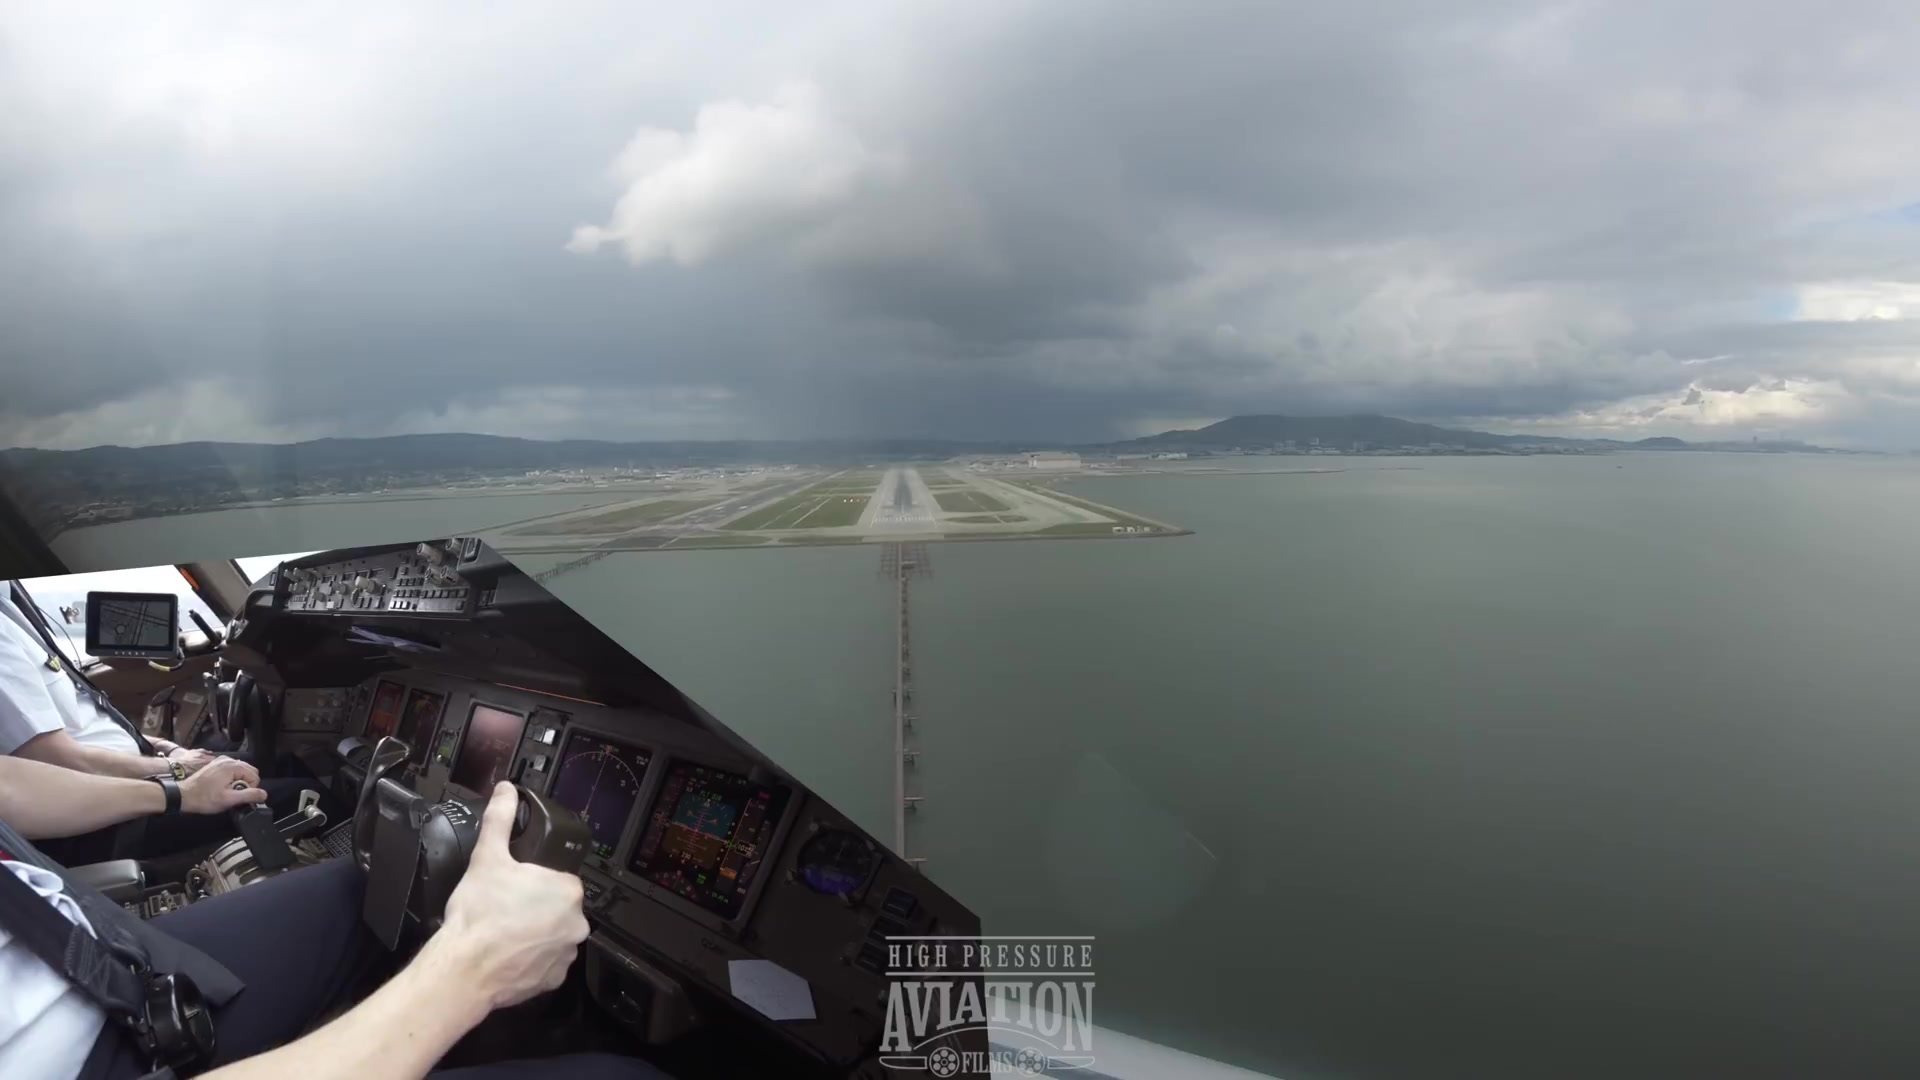entrance: (868, 513, 934, 525)
runway: (650, 475, 831, 527), (853, 469, 948, 537)
